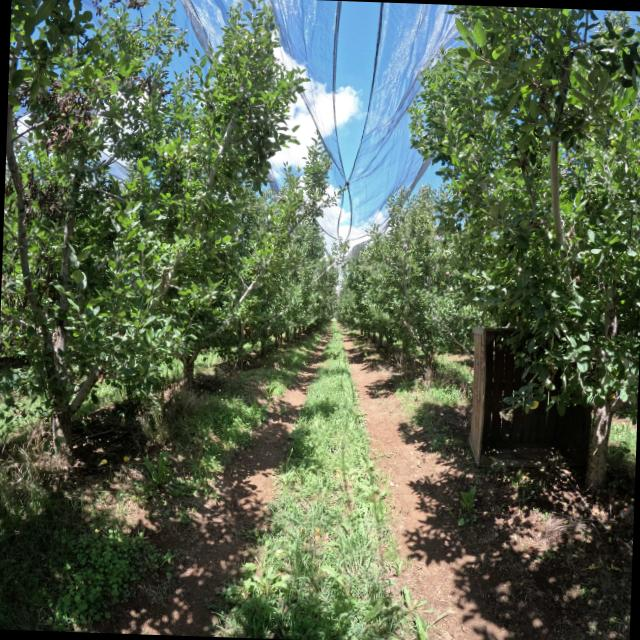-FireBlight-: (33, 77, 97, 157), (22, 167, 71, 225)
